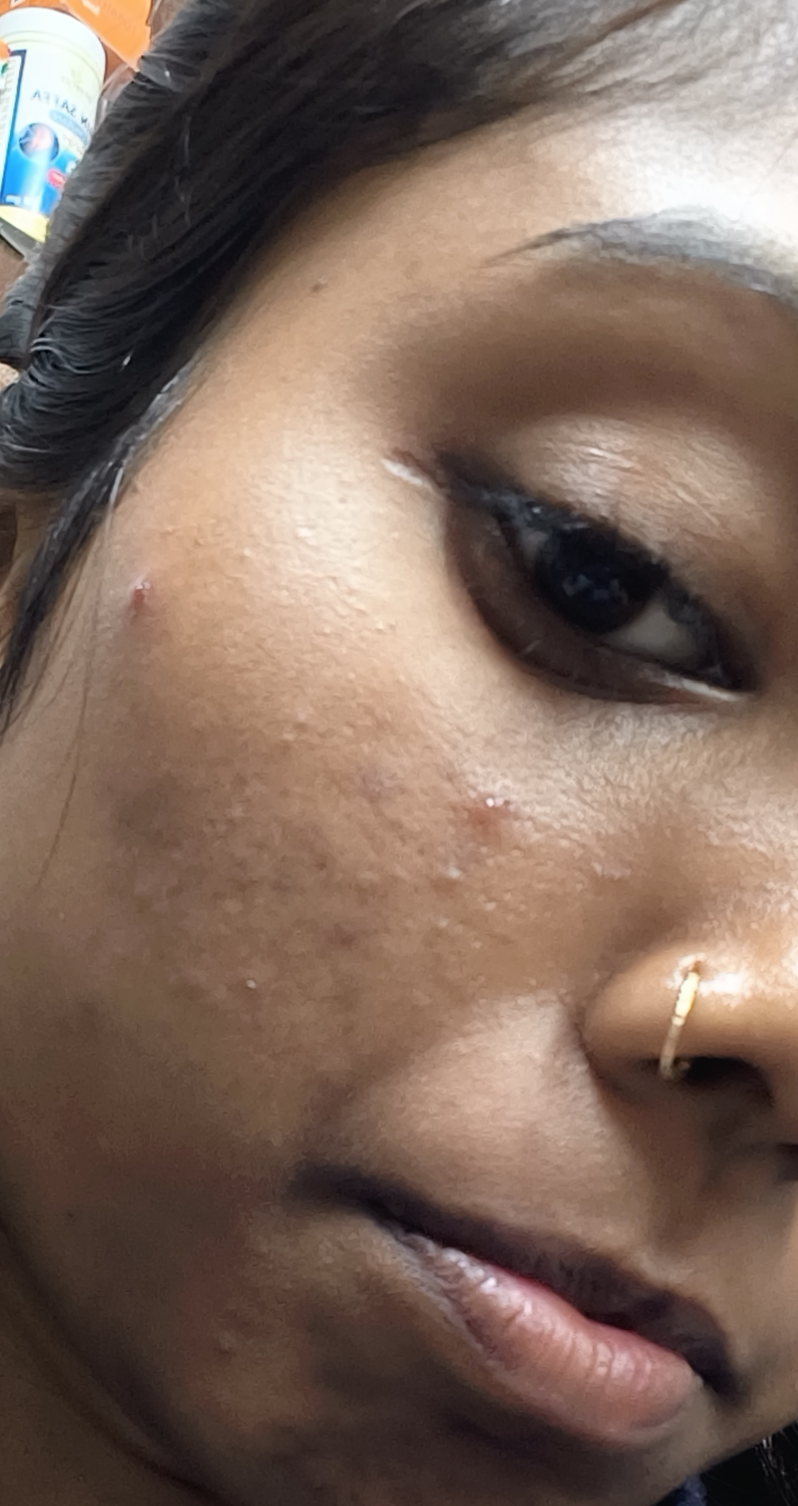papule: (106, 564, 195, 639), (459, 773, 523, 843)
